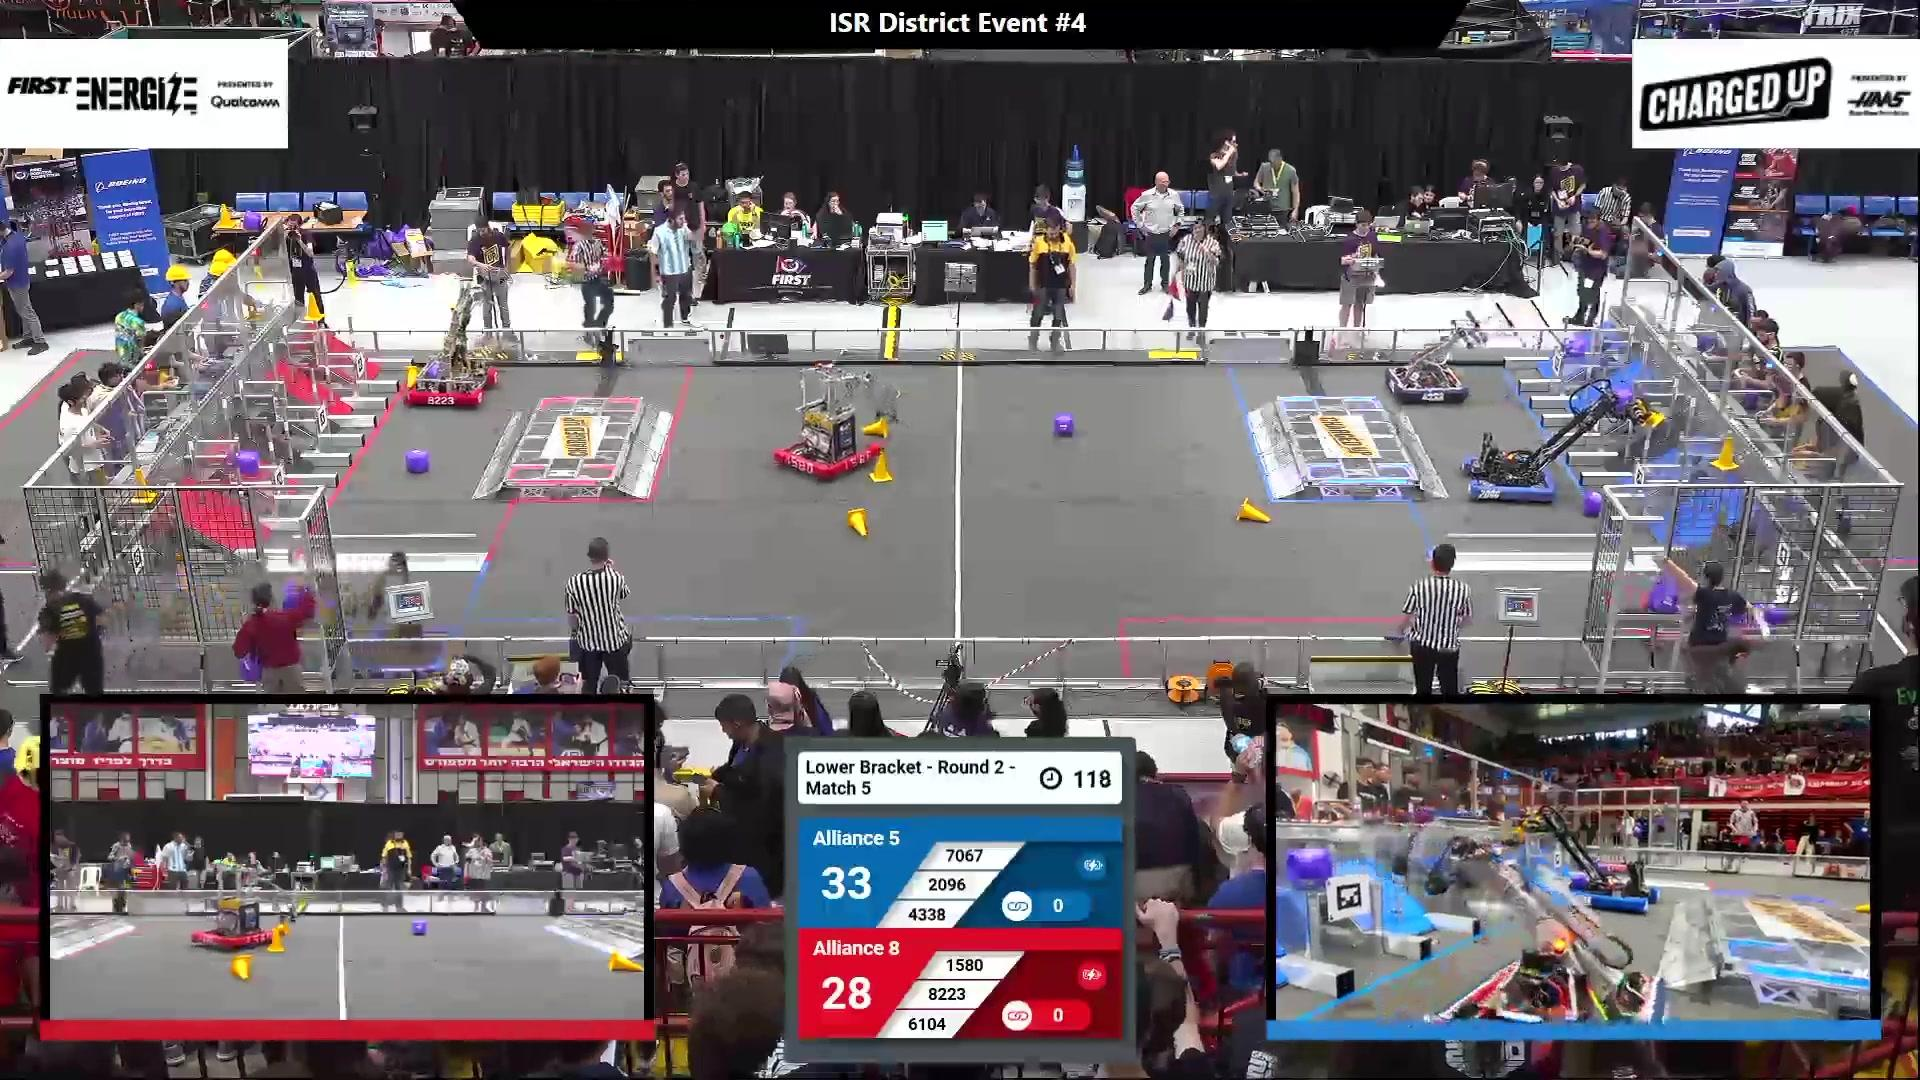robot: (1382, 808, 1667, 1025), (1460, 381, 1652, 502), (1516, 802, 1660, 915), (771, 363, 895, 483), (345, 554, 451, 680), (1610, 534, 1733, 642), (402, 280, 501, 409), (190, 856, 297, 952), (1383, 310, 1487, 407), (1573, 810, 1633, 876)
